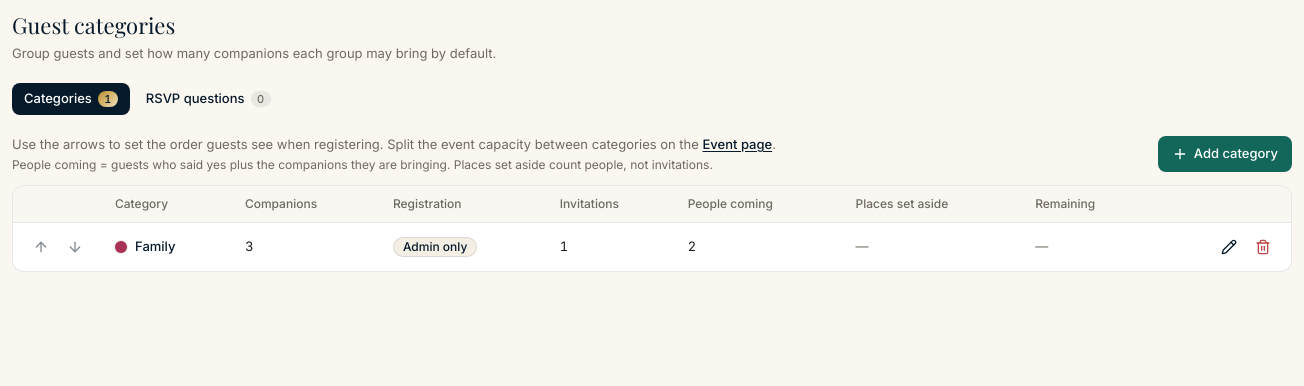
Scenario: GuestCategoriesPage › lists categories and switches to RSVP questions
The width and height of the screenshot is (1304, 386).
Click the button "RSVP questions 0": (208, 99) [134,83,282,115]
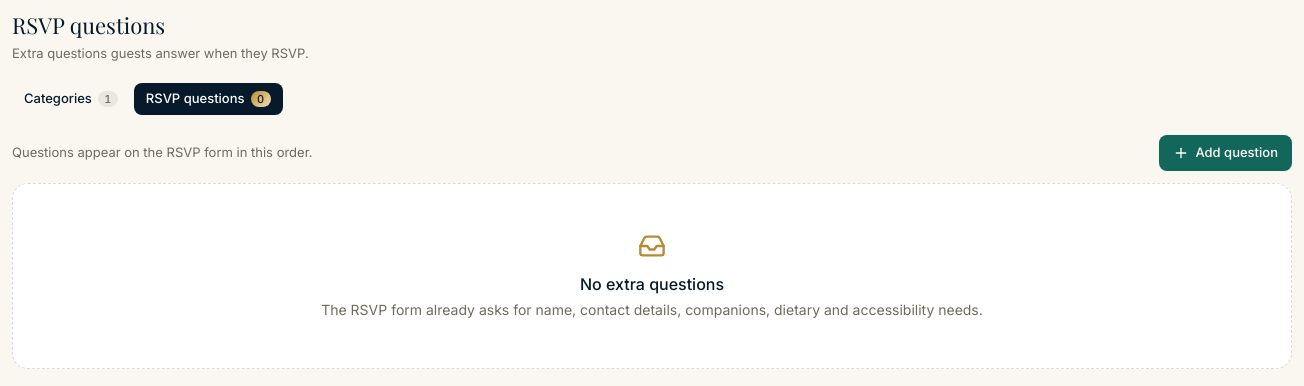
Check: the text "No extra questions" is shown, box [580,274,724,294]
